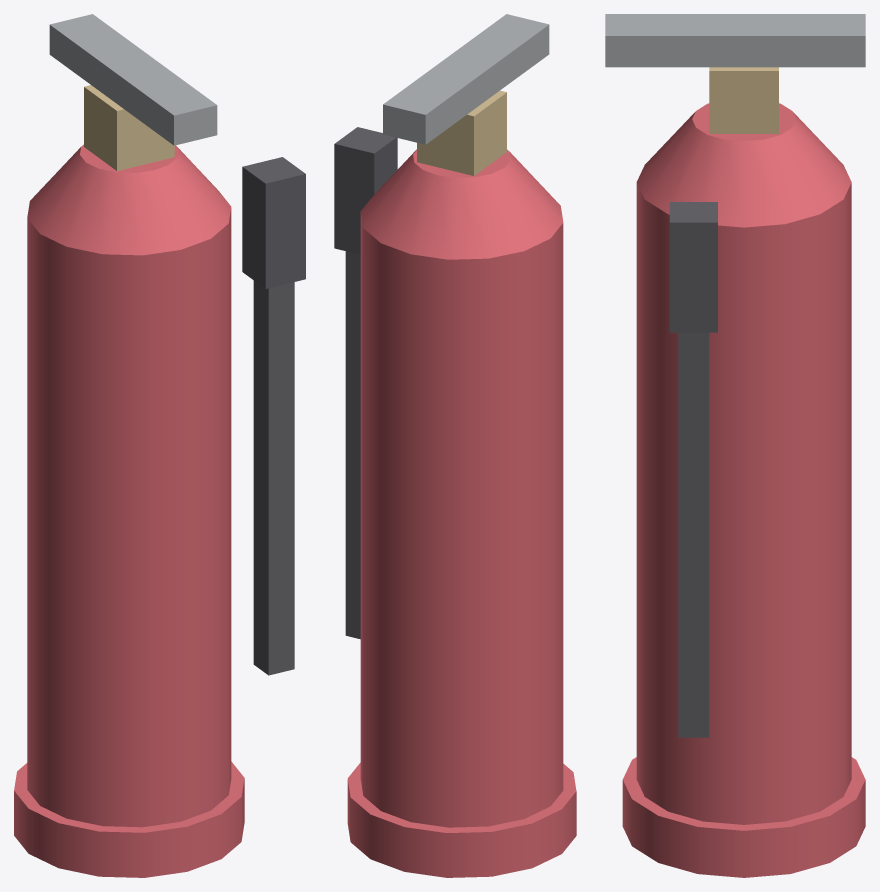
Rendered from fire-extinguisher.gltf.
The picture shows the model from 3 angles, left to right: view 1: azimuth 30°, elevation 25°; view 2: azimuth 150°, elevation 25°; view 3: azimuth 270°, elevation 25°; orthographic projection. The views are drawn at different scales.
Visible parts, largest first — view 1: Body, Hose, Shoulder, BaseRing, HandleLever, Nozzle, Valve; view 2: Body, Shoulder, BaseRing, HandleLever, Hose, Nozzle, Valve; view 3: Body, Shoulder, BaseRing, HandleLever, Hose, Nozzle, Valve.
Part boxes in pixels (x1,y1,x2,y2): Body: [27, 208, 231, 827]; Hose: [253, 280, 294, 675]; Shoulder: [27, 144, 231, 255]; BaseRing: [14, 761, 244, 877]; HandleLever: [49, 14, 217, 145]; Nozzle: [242, 157, 305, 288]; Valve: [84, 85, 174, 171]; Body: [360, 212, 563, 827]; Shoulder: [360, 149, 563, 259]; BaseRing: [347, 762, 576, 877]; HandleLever: [383, 14, 549, 144]; Hose: [345, 251, 360, 639]; Nozzle: [334, 127, 397, 254]; Valve: [417, 90, 506, 175]; Body: [636, 183, 851, 824]; Shoulder: [636, 103, 851, 227]; BaseRing: [622, 757, 865, 877]; HandleLever: [605, 14, 865, 67]; Hose: [678, 332, 709, 737]; Nozzle: [669, 202, 717, 332]; Valve: [709, 67, 778, 133].
Size of the model in its own units: 0.0105 by 0.0319 by 0.00937.
